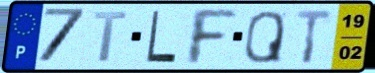7: (40, 7, 89, 67)
F: (187, 7, 239, 67)
L: (144, 9, 179, 65)
Q: (242, 9, 286, 65)
T: (295, 8, 334, 65), (93, 10, 130, 64)
